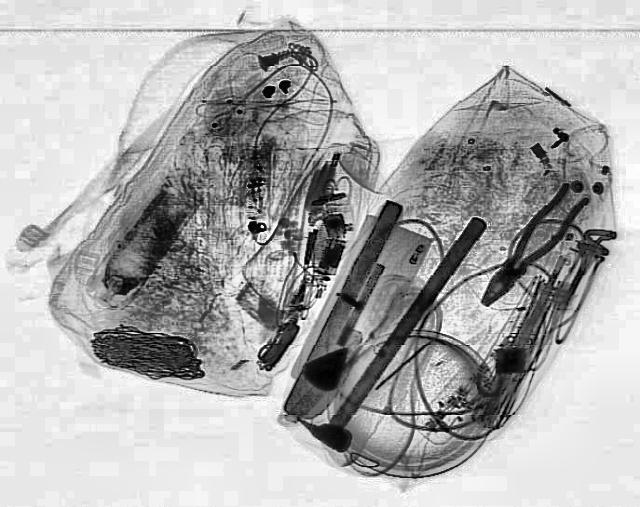Pliers: (466, 180, 596, 311)
